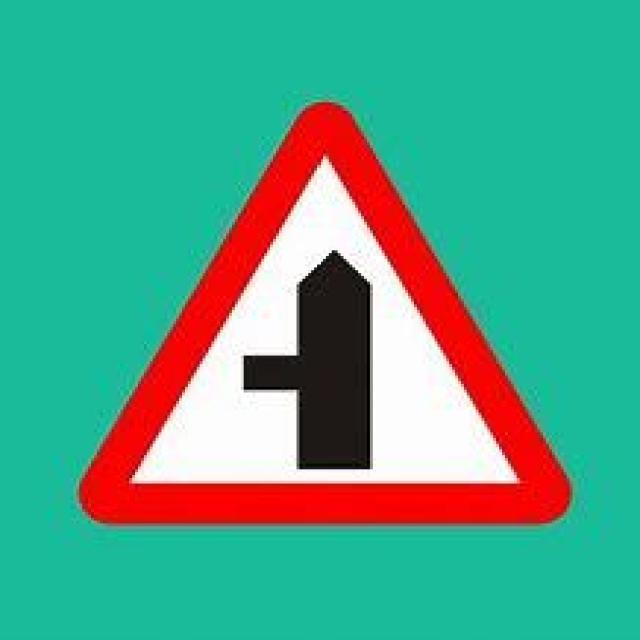side road left: (79, 103, 570, 519)
